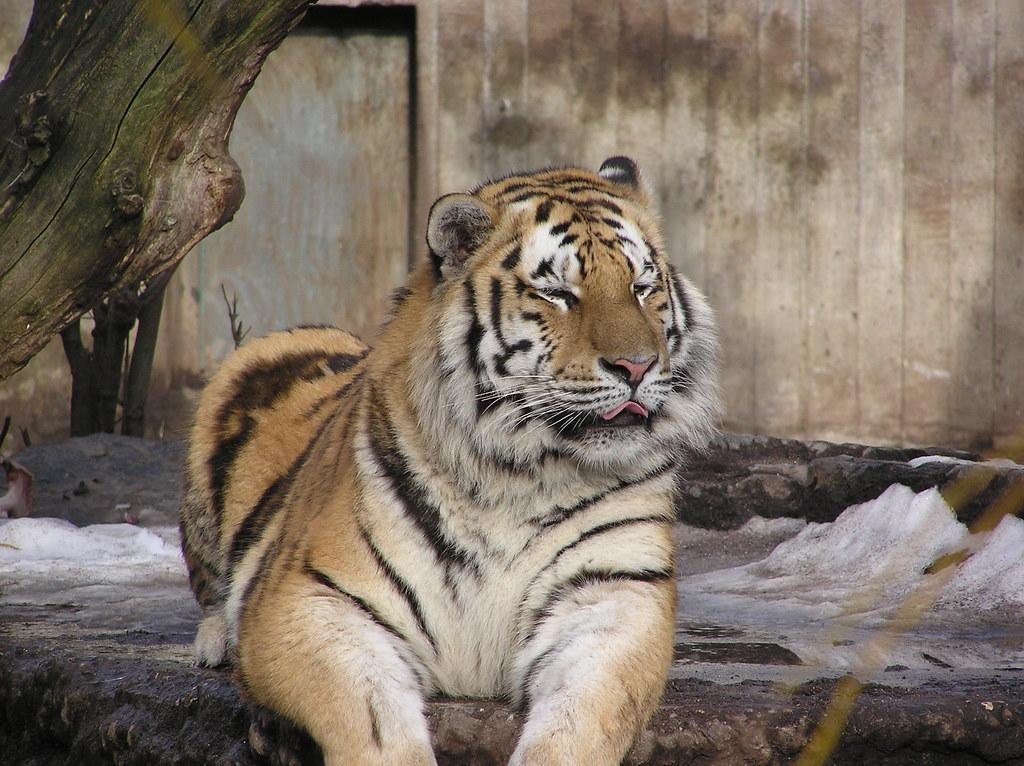tiger: (178, 154, 728, 765)
